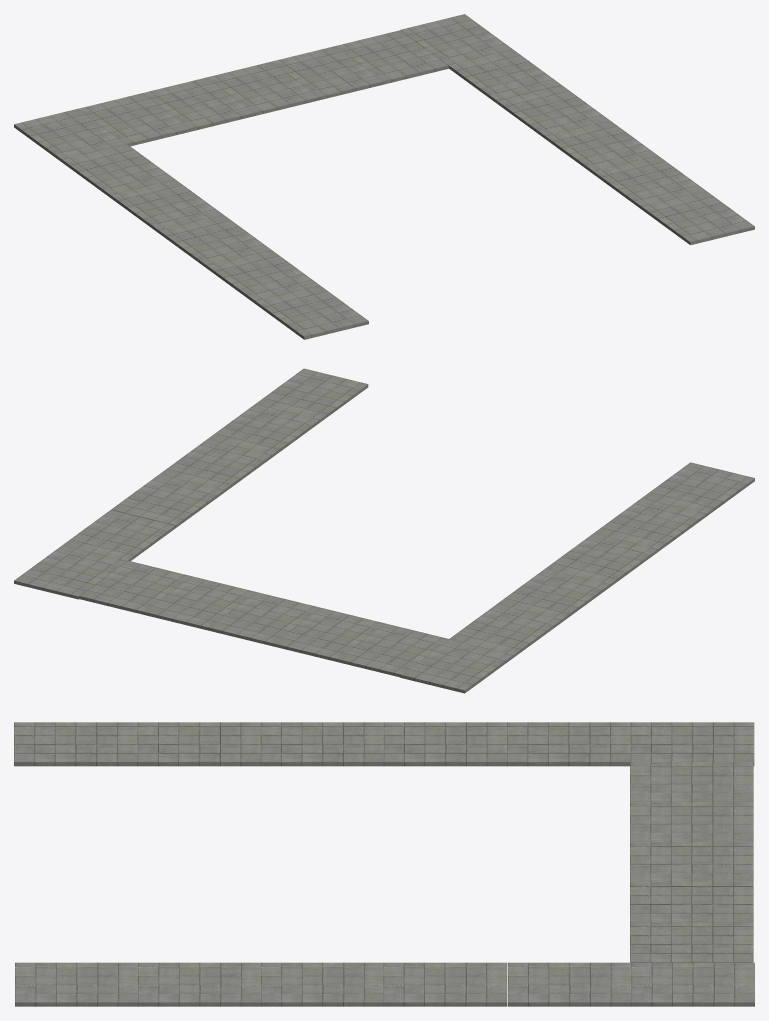
The model's file is Balcony 1.fbx.
3 views of the same model, one above another, from view 1: azimuth 30°, elevation 25°; view 2: azimuth 150°, elevation 25°; view 3: azimuth 270°, elevation 25° (orthographic). The views are drawn at different scales.
Parts seen in each view (by area): view 1: Floor_half__11_, Floor_half__16_, Floor_half__21_, Floor_half__19_, Floor_half__20_, Floor_half__23_, Floor_half__22_, Floor_half__14_, Floor_half__2_, Floor_half__15_, Floor_half__1_, Floor_half__12_ (+5 smaller); view 2: Floor_half__3_, Floor_half__10_, Floor_half__20_, Floor_half__22_, Floor_half__19_, Floor_half__23_, Floor_half__21_, Floor_half__15_, Floor_half__2_, Floor_half__11_, Floor_half__1_, Floor_half__14_ (+5 smaller); view 3: Floor_half__14_, Floor_half__10_, Floor_half__11_, Floor_half__15_, Floor_half, Floor_half__1_, Floor_half__12_, Floor_half__2_, Floor_half__16_, Floor_half__17_, Floor_half__13_, Floor_half__19_ (+5 smaller).
Boxes of the visible parts, x1,y1,x2,y2 form: Floor_half__11_: (256,285,368,339); Floor_half__16_: (642,191,754,245); Floor_half__21_: (207,61,319,115); Floor_half__19_: (336,30,448,84); Floor_half__20_: (272,46,384,99); Floor_half__23_: (78,93,190,146); Floor_half__22_: (143,77,255,131); Floor_half__14_: (449,49,561,103); Floor_half__2_: (62,144,175,197); Floor_half__15_: (497,85,610,138); Floor_half__1_: (111,179,223,232); Floor_half__12_: (207,250,319,304); Floor_half__3_: (400,639,513,693); Floor_half__10_: (14,545,126,599); Floor_half__20_: (143,576,255,630); Floor_half__22_: (272,608,384,661); Floor_half__19_: (79,560,191,614); Floor_half__23_: (336,623,449,677); Floor_half__21_: (208,592,320,645); Floor_half__15_: (111,474,223,528); Floor_half__2_: (449,604,561,657); Floor_half__11_: (642,462,754,515); Floor_half__1_: (497,568,609,622); Floor_half__14_: (63,510,175,561); Floor_half__14_: (507,962,631,1006); Floor_half__10_: (631,962,754,1006); Floor_half__11_: (14,722,137,766); Floor_half__15_: (383,962,506,1006); Floor_half: (260,722,383,766); Floor_half__1_: (383,722,506,766); Floor_half__12_: (137,722,260,766); Floor_half__2_: (507,722,630,766); Floor_half__16_: (15,962,137,1006); Floor_half__17_: (138,962,260,1006); Floor_half__13_: (261,962,383,1006); Floor_half__19_: (630,922,753,962).
Size of the model in its own units: 3121 by 21.15 by 3483.
Materials: 1 (1 with a texture image).
